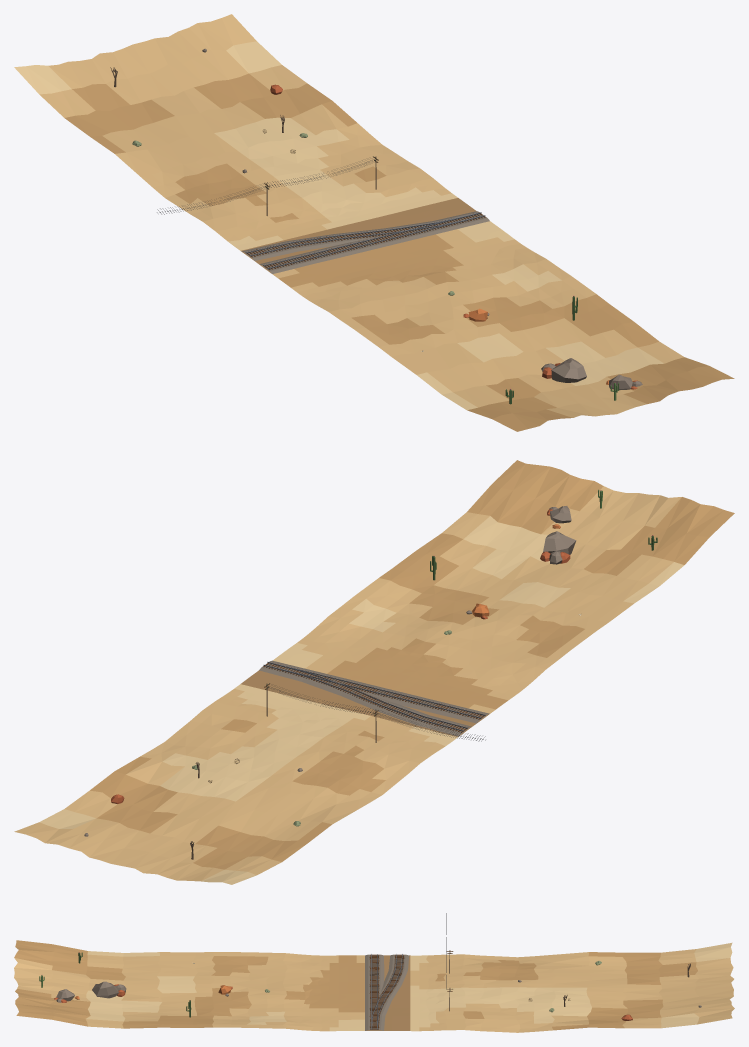
The model's file is SM_FG_Chunk_SideTrack_End_A.fbx.
3 views of the same model, one above another, from view 1: azimuth 30°, elevation 25°; view 2: azimuth 150°, elevation 25°; view 3: azimuth 270°, elevation 25° (orthographic). The views are drawn at different scales.
Visible parts, largest first — view 1: FG_Chunk_SideTrack_End_A_Ground, FG_Chunk_SideTrack_End_A_Track, FG_Chunk_SideTrack_End_A_SceneryNear; view 2: FG_Chunk_SideTrack_End_A_Ground, FG_Chunk_SideTrack_End_A_Track, FG_Chunk_SideTrack_End_A_SceneryNear; view 3: FG_Chunk_SideTrack_End_A_Ground, FG_Chunk_SideTrack_End_A_Track, FG_Chunk_SideTrack_End_A_SceneryNear.
Boxes of the visible parts, bbox=[...] form: FG_Chunk_SideTrack_End_A_Ground: bbox=[14, 14, 734, 431]; FG_Chunk_SideTrack_End_A_Track: bbox=[241, 211, 489, 273]; FG_Chunk_SideTrack_End_A_SceneryNear: bbox=[110, 48, 642, 404]; FG_Chunk_SideTrack_End_A_Ground: bbox=[14, 460, 734, 884]; FG_Chunk_SideTrack_End_A_Track: bbox=[259, 660, 489, 736]; FG_Chunk_SideTrack_End_A_SceneryNear: bbox=[84, 489, 657, 859]; FG_Chunk_SideTrack_End_A_Ground: bbox=[14, 940, 734, 1032]; FG_Chunk_SideTrack_End_A_Track: bbox=[365, 954, 409, 1030]; FG_Chunk_SideTrack_End_A_SceneryNear: bbox=[39, 913, 701, 1020].
Size of the model in its own units: 6250 by 20135 by 829.
